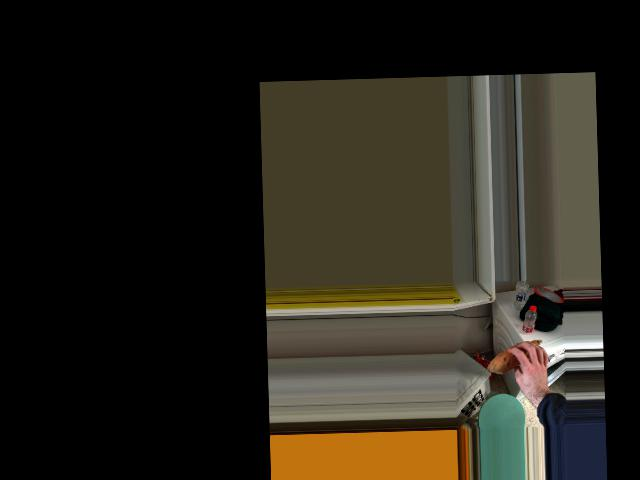sweet_potato: (488, 339, 545, 373)
